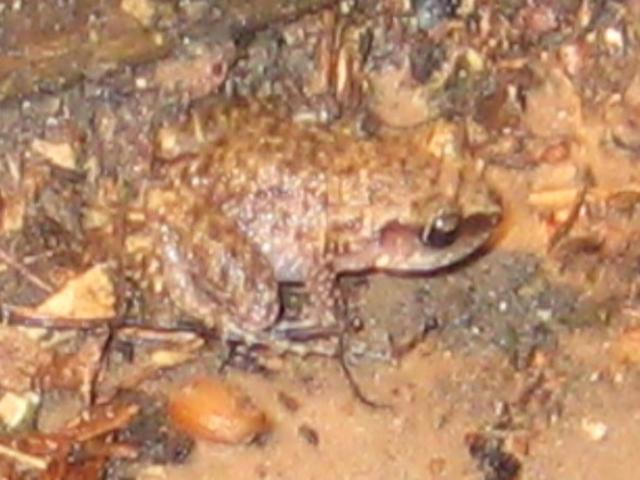frog: (72, 66, 508, 394)
